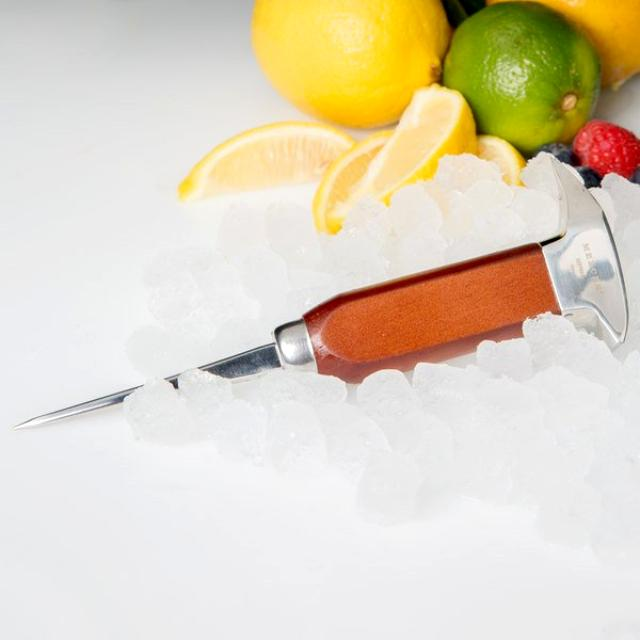ice pick: (11, 155, 627, 431)
